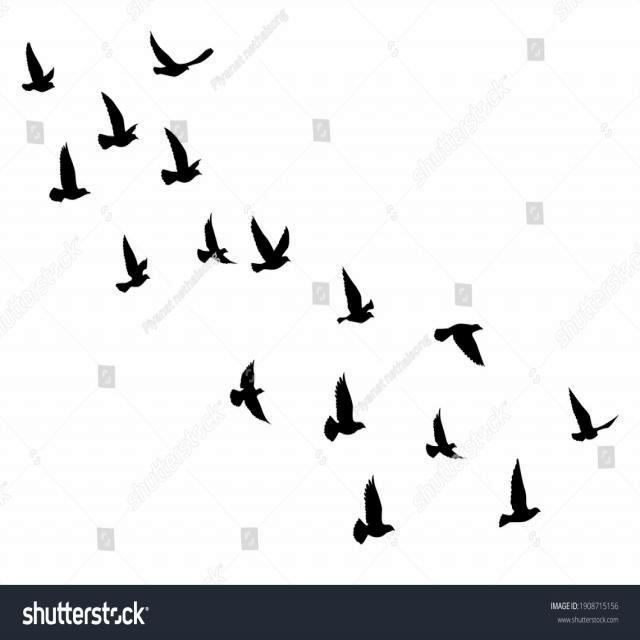bird: (77, 62, 149, 152), (309, 366, 373, 462), (178, 186, 236, 279), (348, 475, 403, 560), (142, 26, 215, 89), (218, 351, 276, 427), (330, 257, 388, 329), (244, 208, 300, 282), (562, 382, 618, 454), (412, 402, 474, 467), (42, 142, 98, 213), (6, 40, 64, 104), (104, 226, 154, 300), (154, 120, 207, 188), (426, 313, 488, 371), (498, 458, 548, 528)
